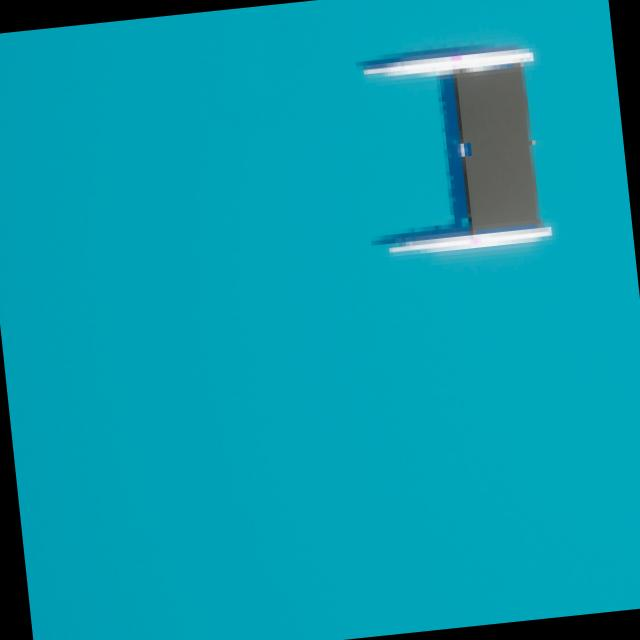boat: (359, 15, 561, 271)
drone: (456, 65, 540, 225)
